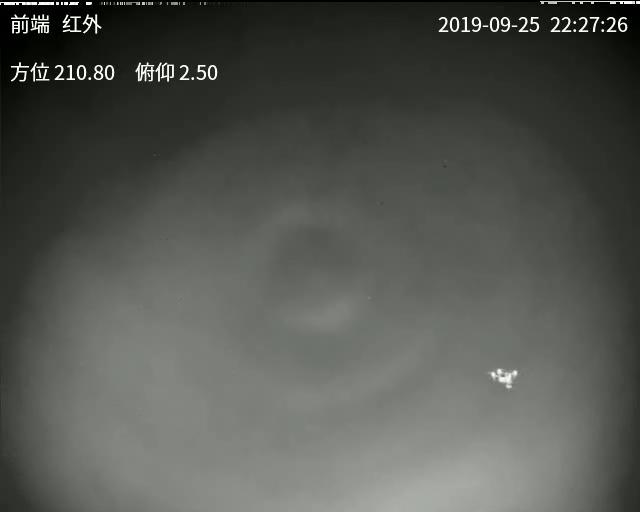uav: (489, 367, 523, 393)
